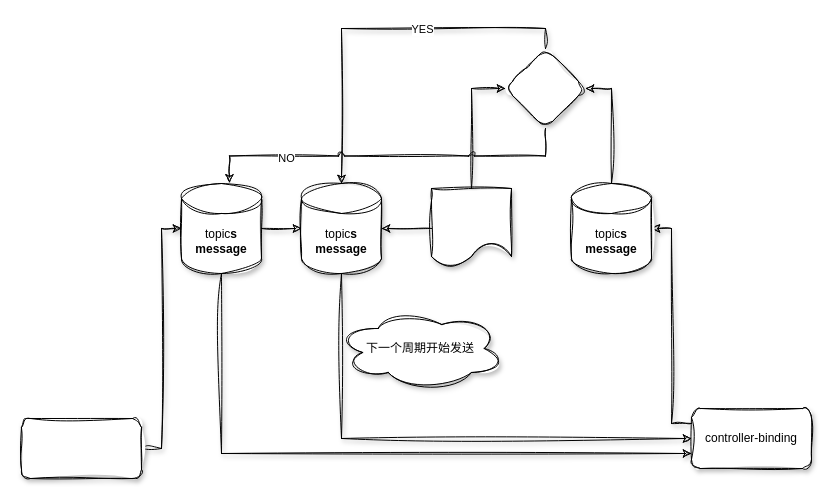
The diagram is 835 pixels wide and 503 high, and some of its shapes have lost their labels. Here are the shapes that lost their labels. From the top down, the centre of each, then its label:
At pixel 546 90: "是否符合预期".
At pixel 472 230: "json".
At pixel 82 450: "carmaker-binding".
